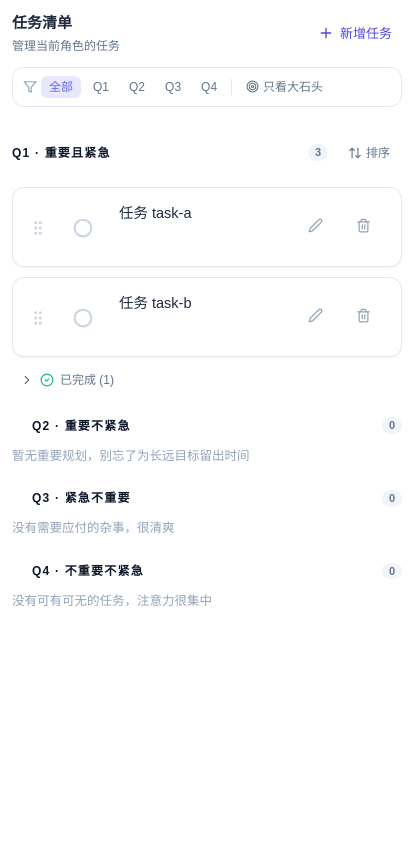
Test: TasksTab 排序模式（Story 16.4） › 点「排序」开模式：拖拽把手隐藏、↑/↓ 按钮登场（禁用拖拽）
The width and height of the screenshot is (414, 856).
Click the button with test id "sort-mode-Q1": {"x": 369, "y": 152} top-left (336, 130), bottom-right (402, 174)
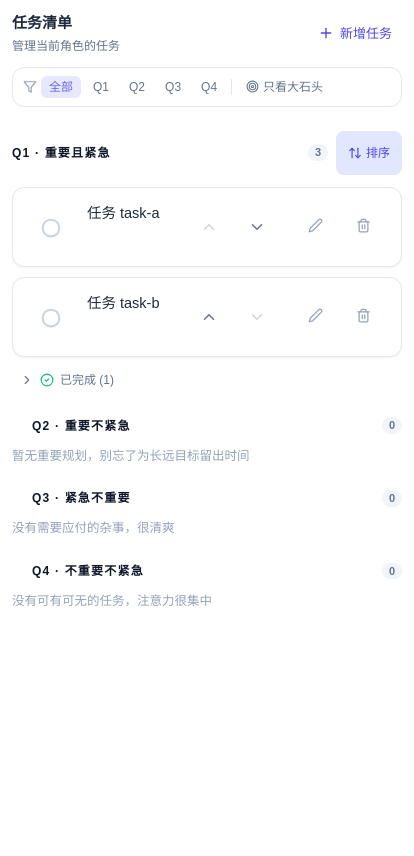
Expected: the button named "上移 任务 task-a" is disabled, top-left (187, 204), bottom-right (231, 248)
Now the button named "上移 任务 task-a" is shown, box top-left (187, 204), bottom-right (231, 248)
Now the button named "下移 任务 task-a" is shown, box top-left (235, 204), bottom-right (279, 248)
